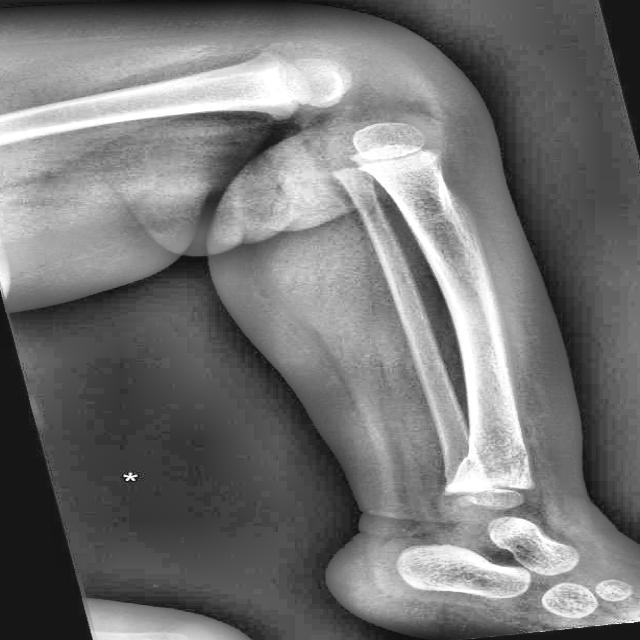fracture: (462, 454, 482, 472)
